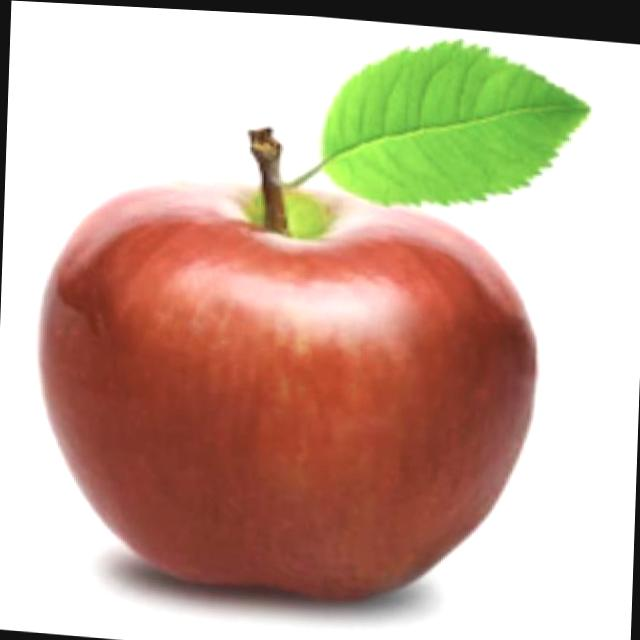Apple: (29, 114, 547, 614)
